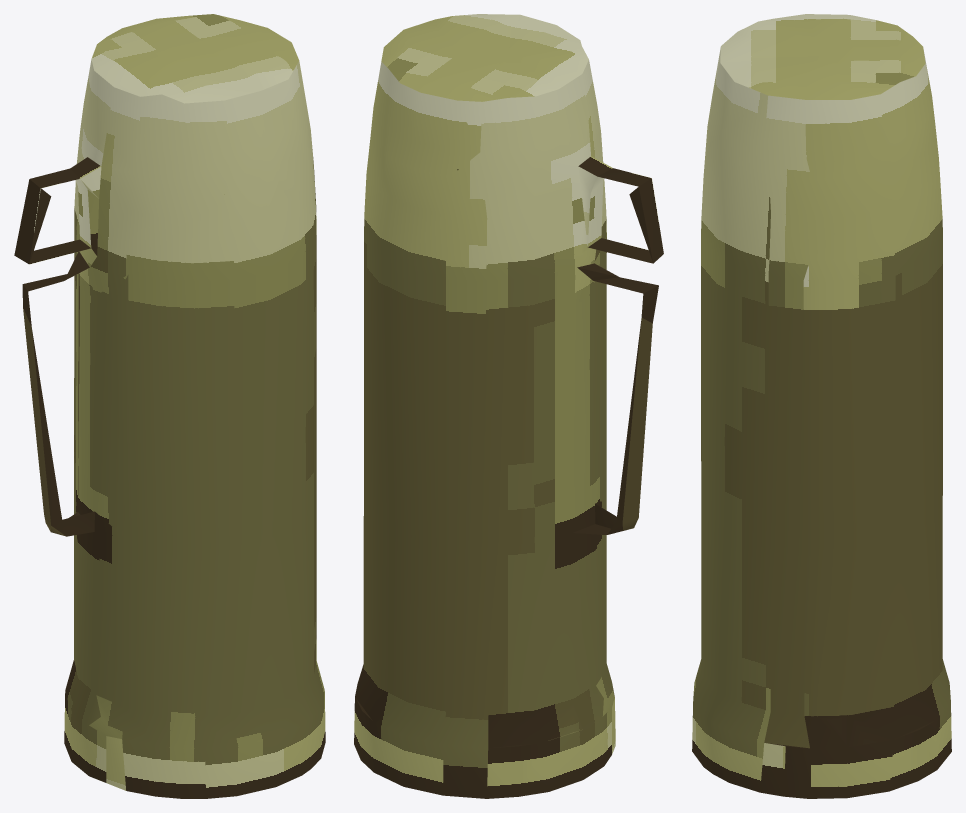
Rendered from plastic_thermos.glb.
The picture shows the model from 3 angles, left to right: view 1: azimuth 30°, elevation 25°; view 2: azimuth 150°, elevation 25°; view 3: azimuth 270°, elevation 25°; orthographic projection.
Parts seen in each view (by area): view 1: mesh; view 2: mesh; view 3: mesh.
Part boxes in pixels (left/top/right/bottom): mesh: left=14, top=14, right=325, bottom=798; mesh: left=354, top=14, right=663, bottom=798; mesh: left=692, top=14, right=951, bottom=798.
Bounding box in the file's own units: 0.1391 × 0.3204 × 0.1088.
1 material, 1 textured.
